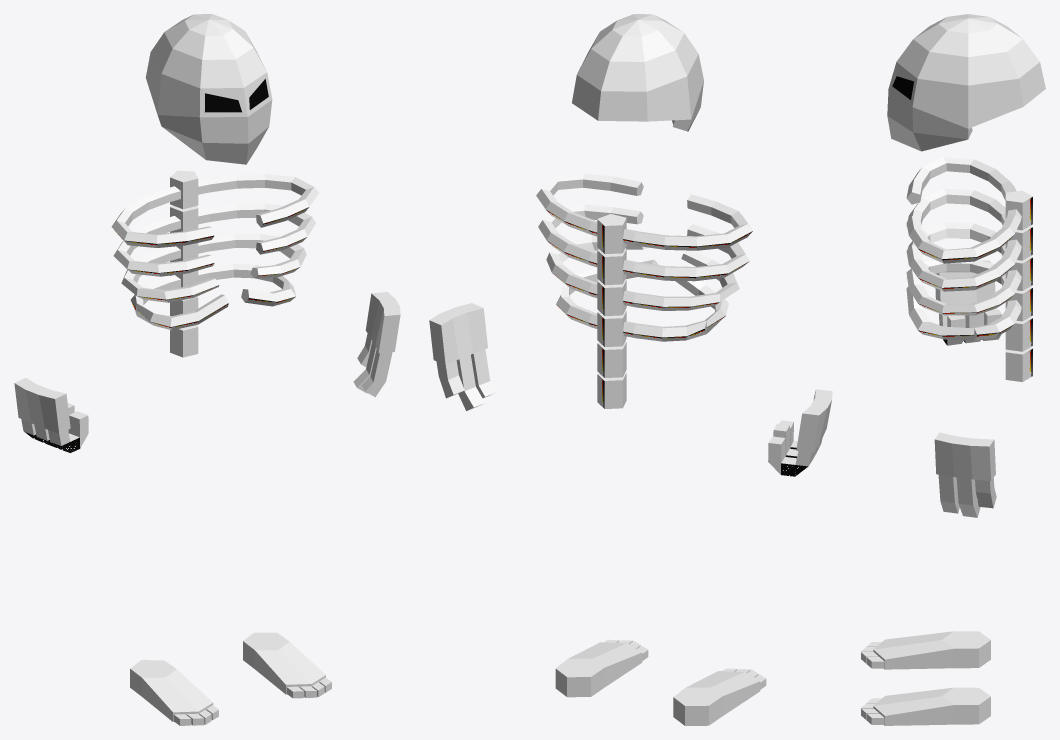
File: skeleton.gltf
3 renders of one model, left to right at view 1: azimuth 30°, elevation 25°; view 2: azimuth 150°, elevation 25°; view 3: azimuth 270°, elevation 25°, orthographic. The views are drawn at different scales.
Visible parts, largest first — view 1: RibCage, SkullHead, HandRight.001, FootLeft.001, FootRight.001, HandLeft.001; view 2: RibCage, SkullHead, HandLeft.001, FootLeft.001, FootRight.001, HandRight.001; view 3: RibCage, SkullHead, HandLeft.001, FootRight.001, FootLeft.001, HandRight.001.
Boxes of the visible parts, x1,y1,x2,y2 form: RibCage: (111, 170, 318, 357); SkullHead: (145, 14, 272, 164); HandRight.001: (14, 378, 88, 452); FootLeft.001: (243, 632, 331, 698); FootRight.001: (130, 660, 218, 725); HandLeft.001: (353, 292, 400, 397); RibCage: (536, 173, 752, 408); SkullHead: (572, 14, 703, 131); HandLeft.001: (429, 303, 496, 410); FootLeft.001: (555, 639, 648, 697); FootRight.001: (673, 668, 766, 725); HandRight.001: (768, 389, 832, 476); RibCage: (906, 157, 1032, 381); SkullHead: (887, 14, 1045, 151); HandLeft.001: (934, 432, 996, 517); FootRight.001: (861, 631, 990, 669); FootLeft.001: (861, 687, 990, 725); HandRight.001: (935, 260, 1002, 345).
Size of the model in its own units: 0.8746 by 1.46 by 0.3668.
1 material, 1 textured.
